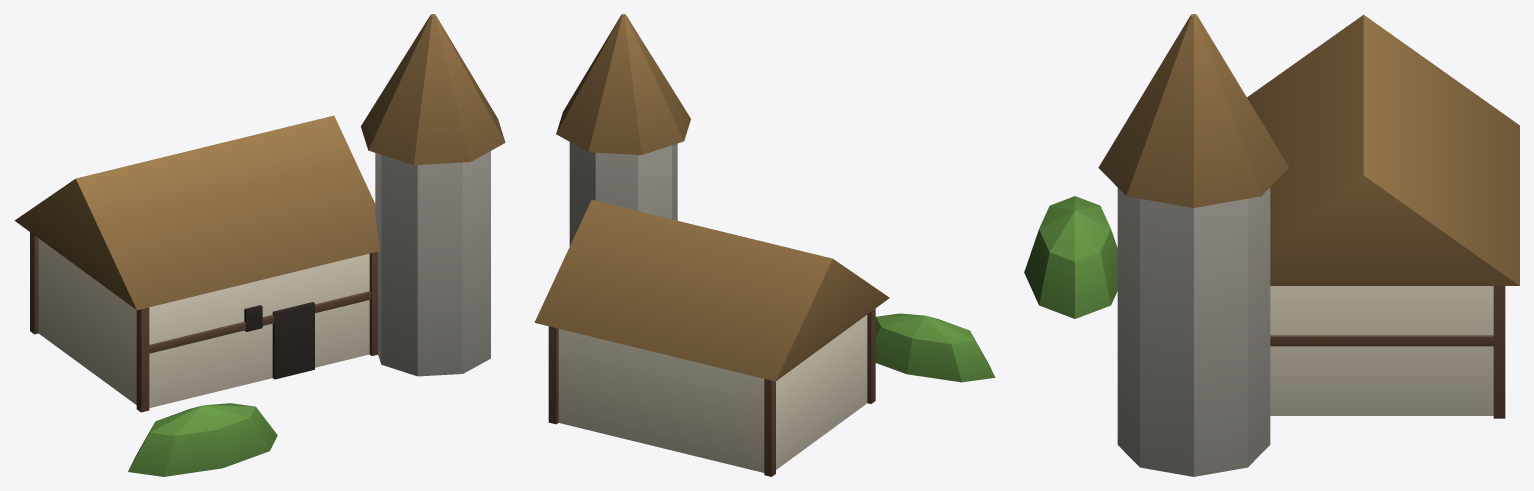
File: SPY_NE.glb
3 views of the same model, side by side, from view 1: azimuth 30°, elevation 25°; view 2: azimuth 150°, elevation 25°; view 3: azimuth 270°, elevation 25° (orthographic). The views are drawn at different scales.
Visible parts, largest first — view 1: Body; view 2: Body; view 3: Body.
Boxes of the visible parts, <box> form: Body: <box>14,14,505,476</box>; Body: <box>534,14,995,476</box>; Body: <box>1024,14,1519,476</box>.
Bounding box in the file's own units: 3.61 × 2.79 × 2.92.
Materials: 1 (1 with a texture image).
